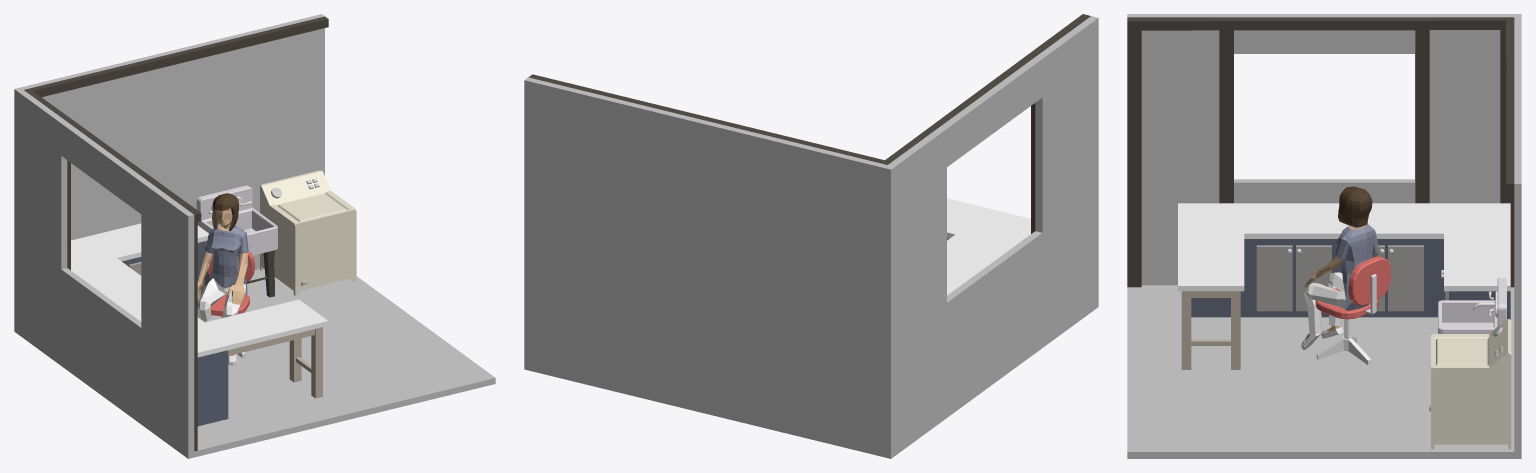
The model's file is room_1.glb.
3 views of the same model, side by side, from view 1: azimuth 30°, elevation 25°; view 2: azimuth 150°, elevation 25°; view 3: azimuth 270°, elevation 25° (orthographic). The views are drawn at different scales.
Visible parts, largest first — view 1: Room, WashingMachineBody, DeskTop, CrownMould, Female_Sitting, Base.001, SinkBody, Casing1, DeskLegOuter, Female_Hairstyle_1, MouldingOuter, SinkLegs (+1 smaller); view 2: Room, DeskTop, CrownMould, Casing2; view 3: Room, DeskTop, WashingMachineBody, CrownMould, Base.001, Cabinets3, Female_Sitting, Casing1, Casing2, Casing3, Cabinets2, SinkBody (+7 smaller).
Part boxes in pixels (x1,y1,x2,y2): Room: (14,14,495,458); WashingMachineBody: (260,170,356,295); DeskTop: (71,223,328,357); CrownMould: (24,16,328,222); Female_Sitting: (197,208,248,366); Base.001: (122,241,228,426); SinkBody: (196,185,277,255); Casing1: (194,222,197,451); DeskLegOuter: (311,327,322,398); Female_Hairstyle_1: (212,193,238,231); MouldingOuter: (228,329,314,355); SinkLegs: (205,246,274,297); Room: (524,16,1098,458); DeskTop: (947,198,1030,295); CrownMould: (528,14,1090,164); Casing2: (1031,103,1035,233); Room: (1127,14,1521,458); DeskTop: (1178,203,1510,291); WashingMachineBody: (1431,319,1511,449); CrownMould: (1127,17,1514,193); Base.001: (1191,239,1510,319); Cabinets3: (1256,245,1331,311); Female_Sitting: (1301,224,1378,350); Casing1: (1127,30,1141,287); Casing2: (1219,30,1233,203); Casing3: (1415,30,1429,203); Cabinets2: (1376,245,1423,311); SinkBody: (1438,278,1506,333).
Bounding box in the file's own units: 4.08 × 3.08 × 4.
